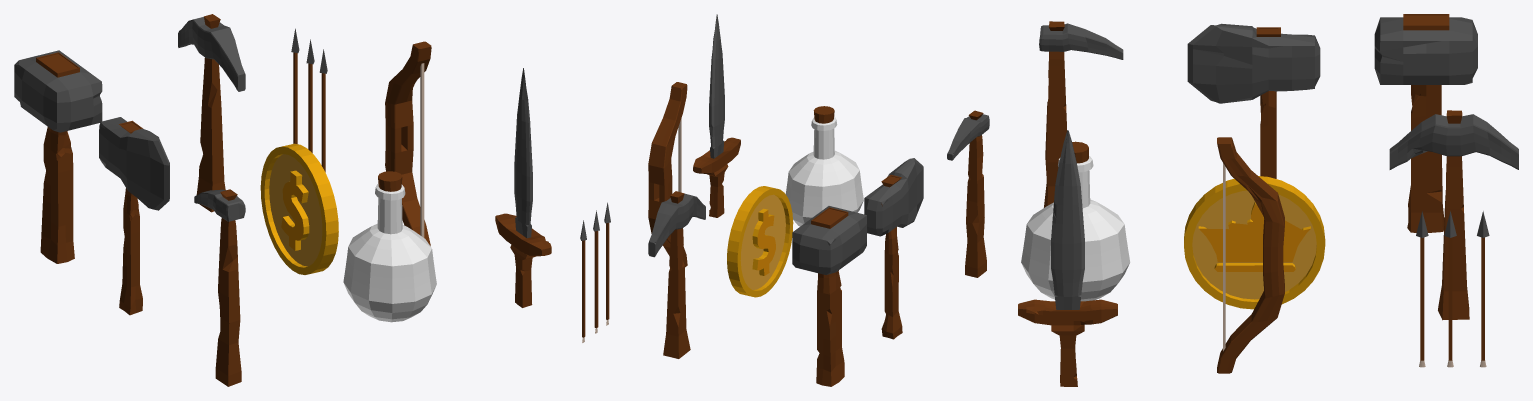
The model's file is assets_1.fbx.
The picture shows the model from 3 angles, left to right: view 1: azimuth 30°, elevation 25°; view 2: azimuth 150°, elevation 25°; view 3: azimuth 270°, elevation 25°; orthographic projection. The views are drawn at different scales.
Visible parts, largest first — view 1: Cube, Sphere, Circle, Cube.003, Cube.002, Cube.005, Cube.004, Cube.001, Cube.008, Cube.007, Cube.006; view 2: Cube, Circle, Sphere, Cube.003, Cube.002, Cube.001, Cube.004, Cube.005, Cube.006, Cube.008, Cube.007; view 3: Circle, Cube, Cube.003, Cube.004, Cube.002, Sphere, Cube.005, Cube.001, Cube.006, Cube.008, Cube.007.
Boxes of the visible parts, bbox=[...] form: Cube: bbox=[14, 50, 102, 263]; Sphere: bbox=[343, 171, 436, 322]; Circle: bbox=[260, 143, 338, 274]; Cube.003: bbox=[99, 117, 169, 315]; Cube.002: bbox=[178, 14, 245, 212]; Cube.005: bbox=[385, 41, 431, 245]; Cube.004: bbox=[495, 68, 551, 307]; Cube.001: bbox=[194, 189, 245, 386]; Cube.008: bbox=[319, 49, 327, 172]; Cube.007: bbox=[291, 28, 299, 143]; Cube.006: bbox=[306, 39, 314, 152]; Cube: bbox=[792, 206, 866, 386]; Circle: bbox=[727, 186, 793, 297]; Sphere: bbox=[785, 106, 863, 226]; Cube.003: bbox=[864, 158, 923, 339]; Cube.002: bbox=[648, 191, 705, 358]; Cube.001: bbox=[947, 110, 989, 277]; Cube.004: bbox=[693, 14, 740, 217]; Cube.005: bbox=[648, 82, 687, 267]; Cube.006: bbox=[593, 210, 599, 333]; Cube.008: bbox=[604, 202, 610, 325]; Cube.007: bbox=[580, 220, 586, 342]; Circle: bbox=[1184, 176, 1325, 309]; Cube: bbox=[1374, 14, 1477, 232]; Cube.003: bbox=[1187, 23, 1320, 178]; Cube.004: bbox=[1018, 130, 1117, 386]; Cube.002: bbox=[1389, 110, 1518, 320]; Sphere: bbox=[1021, 141, 1130, 301]; Cube.005: bbox=[1217, 137, 1284, 373]; Cube.001: bbox=[1039, 21, 1123, 207]; Cube.006: bbox=[1444, 211, 1456, 367]; Cube.008: bbox=[1416, 211, 1428, 367]; Cube.007: bbox=[1477, 211, 1489, 367].
Bounding box in the file's own units: 588 × 398 × 709.
